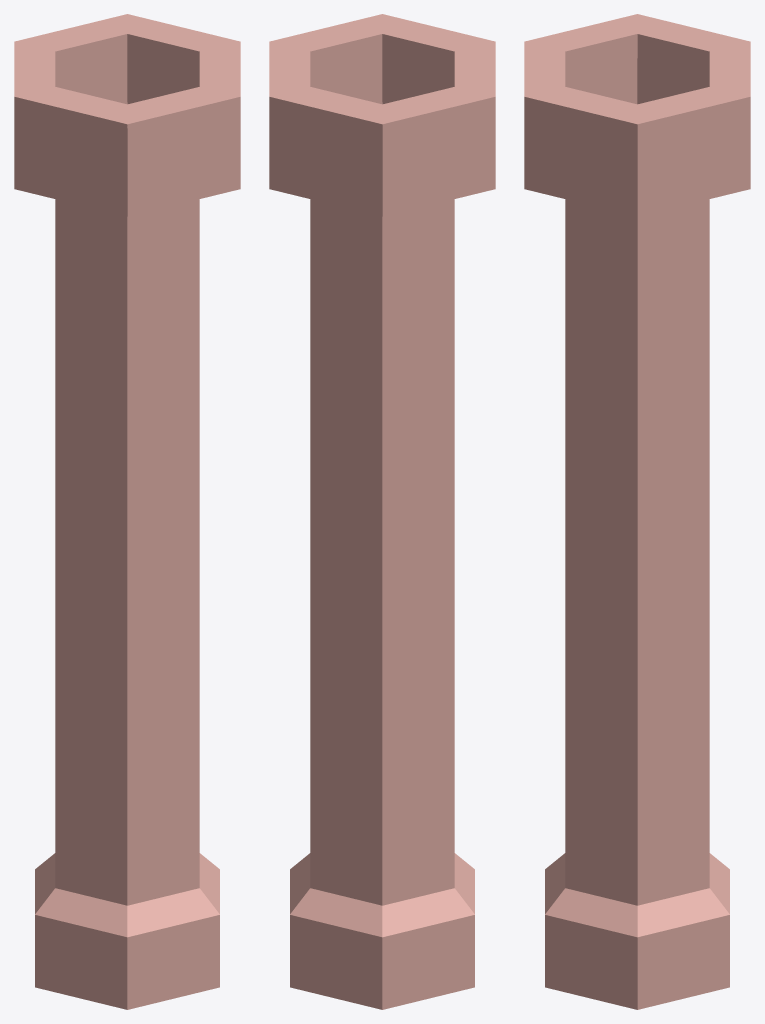
File: FuzivelPuzzle.fbx
3 renders of one model, left to right at view 1: azimuth 30°, elevation 25°; view 2: azimuth 150°, elevation 25°; view 3: azimuth 270°, elevation 25°, orthographic.
Parts seen in each view (by area): view 1: Fusivel; view 2: Fusivel; view 3: Fusivel.
Part boxes in pixels (bbox=[...]): Fusivel: bbox=[14, 14, 240, 1009]; Fusivel: bbox=[269, 14, 495, 1009]; Fusivel: bbox=[524, 14, 750, 1009].
Bounding box in the file's own units: 2.75 × 10.4 × 2.38.
